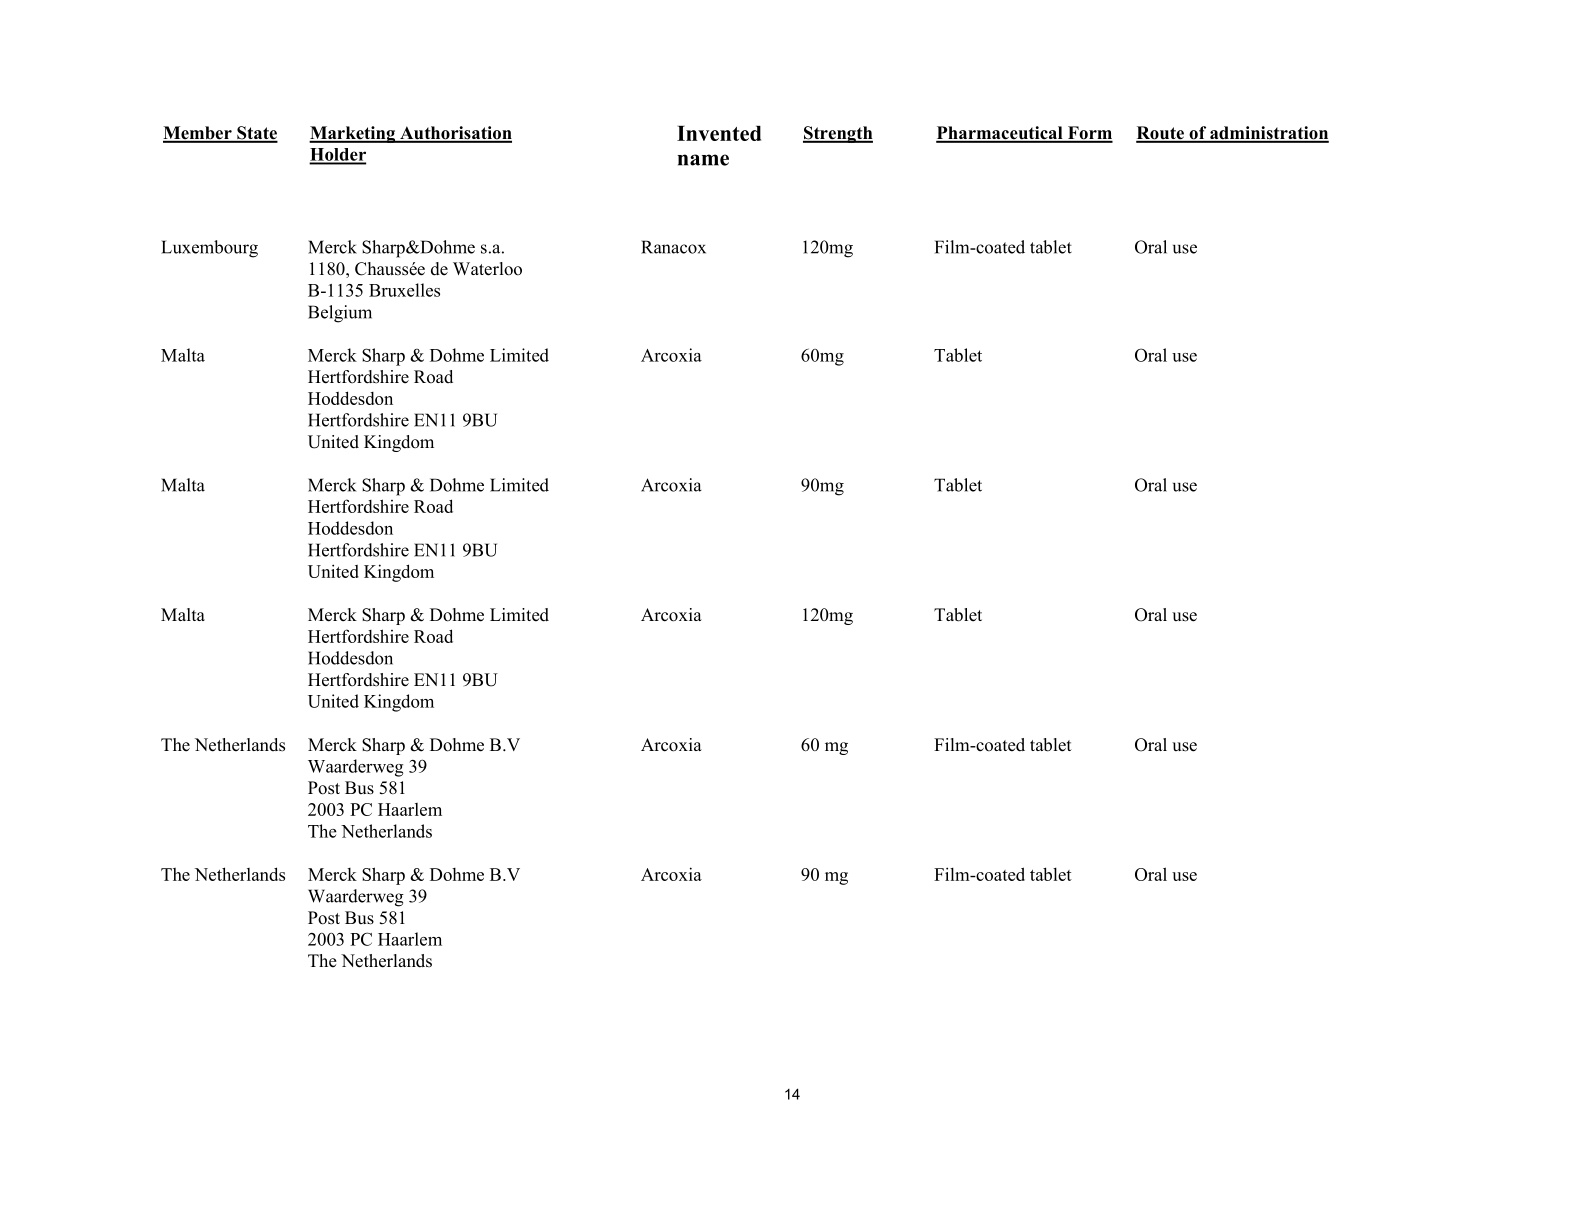nolines: (162, 123, 1333, 968)
